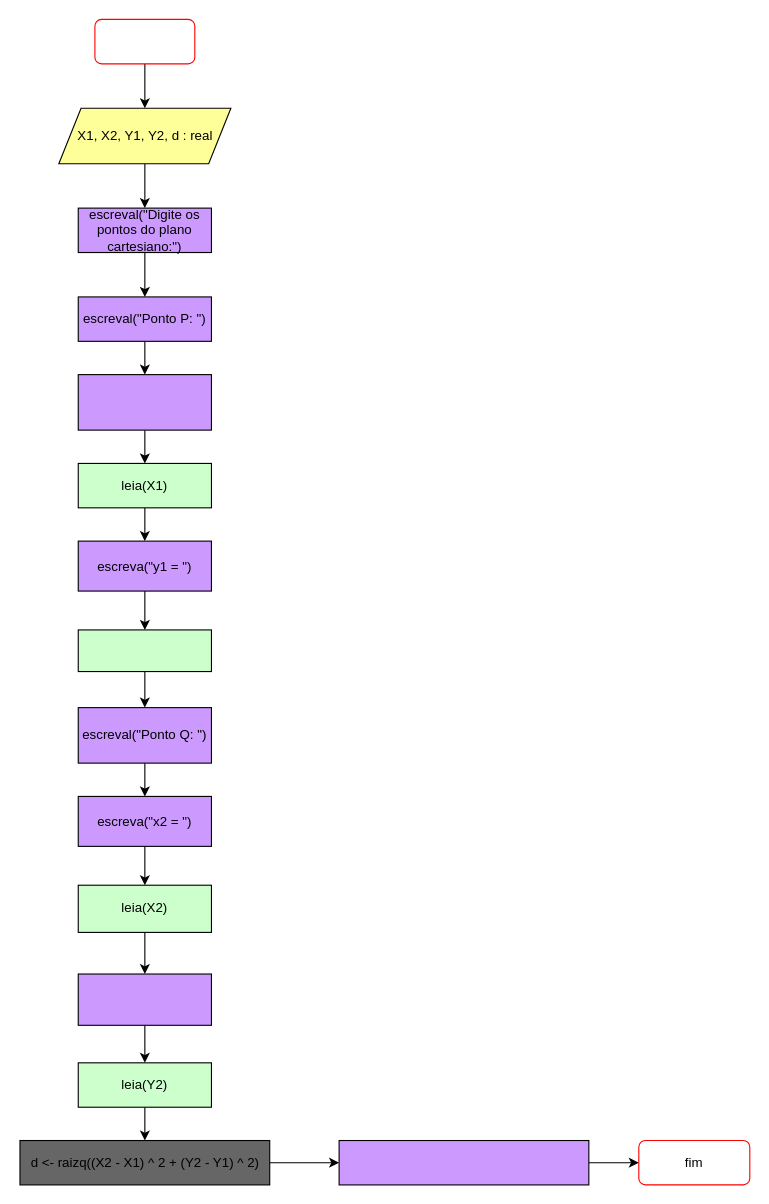
Image size: 769x1204. Some labels were removed from this diagram. The centre of each missing label's shape, as x and y in pixels:
escreva("x1 = "): (144,402)
escreva("y2 = "): (144,999)
escreval("A distancia entre os pontos P e Q eh = ", d): (463,1162)
inicio: (144,41)
leia(y1): (144,650)
